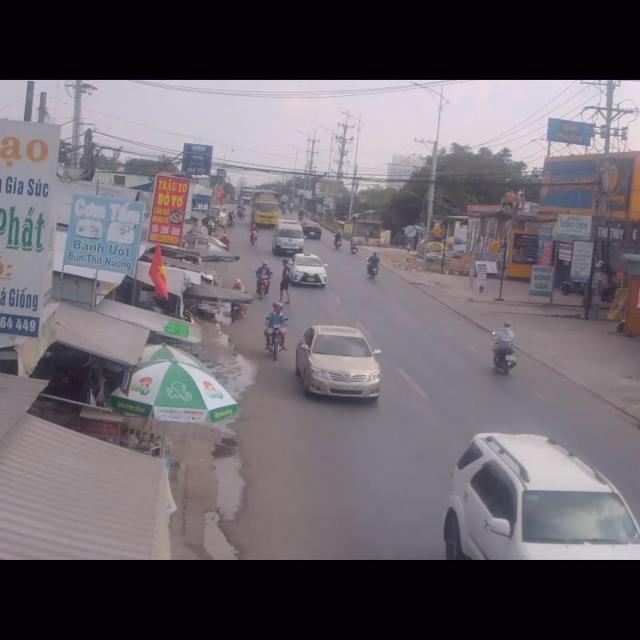car: (440, 422, 640, 556), (295, 322, 384, 408), (288, 251, 326, 290), (272, 217, 303, 260)
motorbike: (489, 322, 516, 382), (265, 301, 288, 362), (254, 260, 271, 299), (364, 248, 379, 284)
truck: (253, 186, 281, 228)
